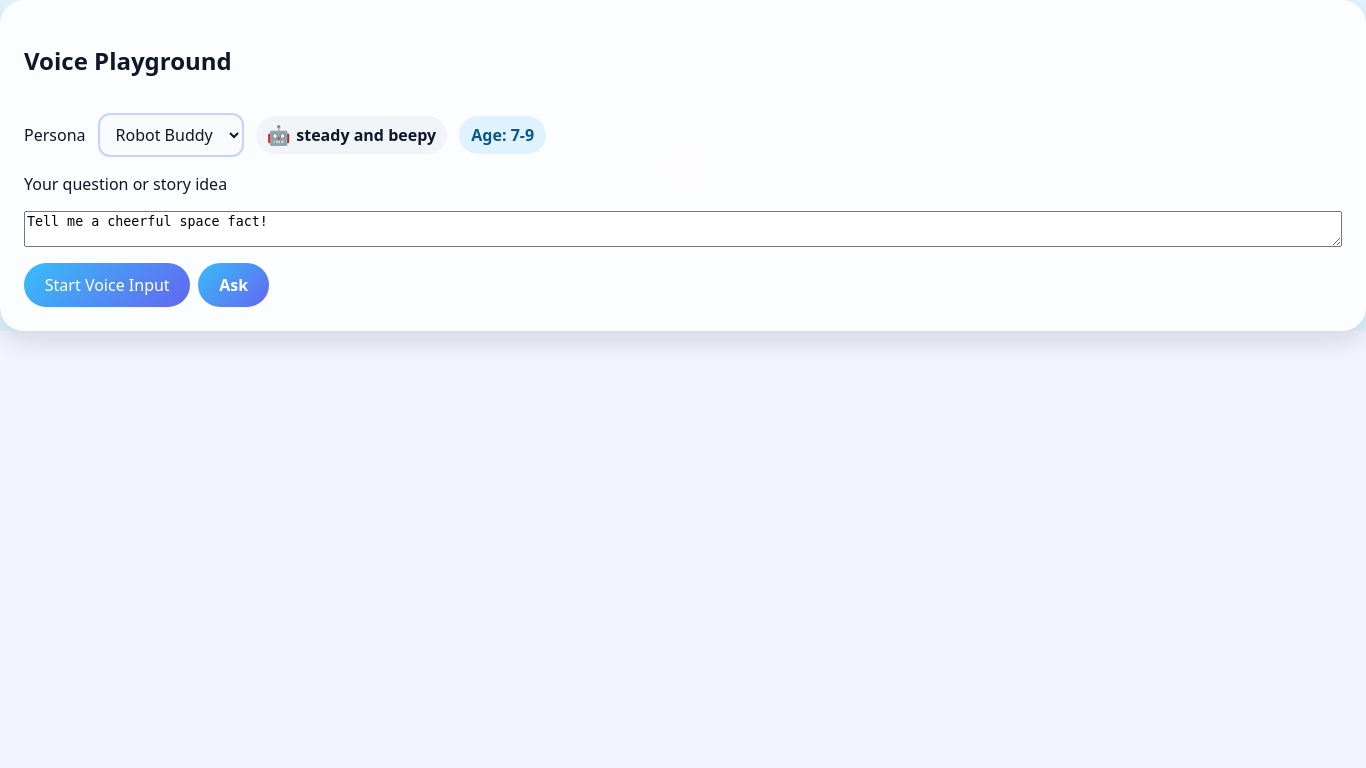
VoiceBar stale-state handling › shows blocked feedback as an alert and hides the replay control
Step 1. Click the button "Ask" → coordinates (234, 285), box [198,263,269,307]
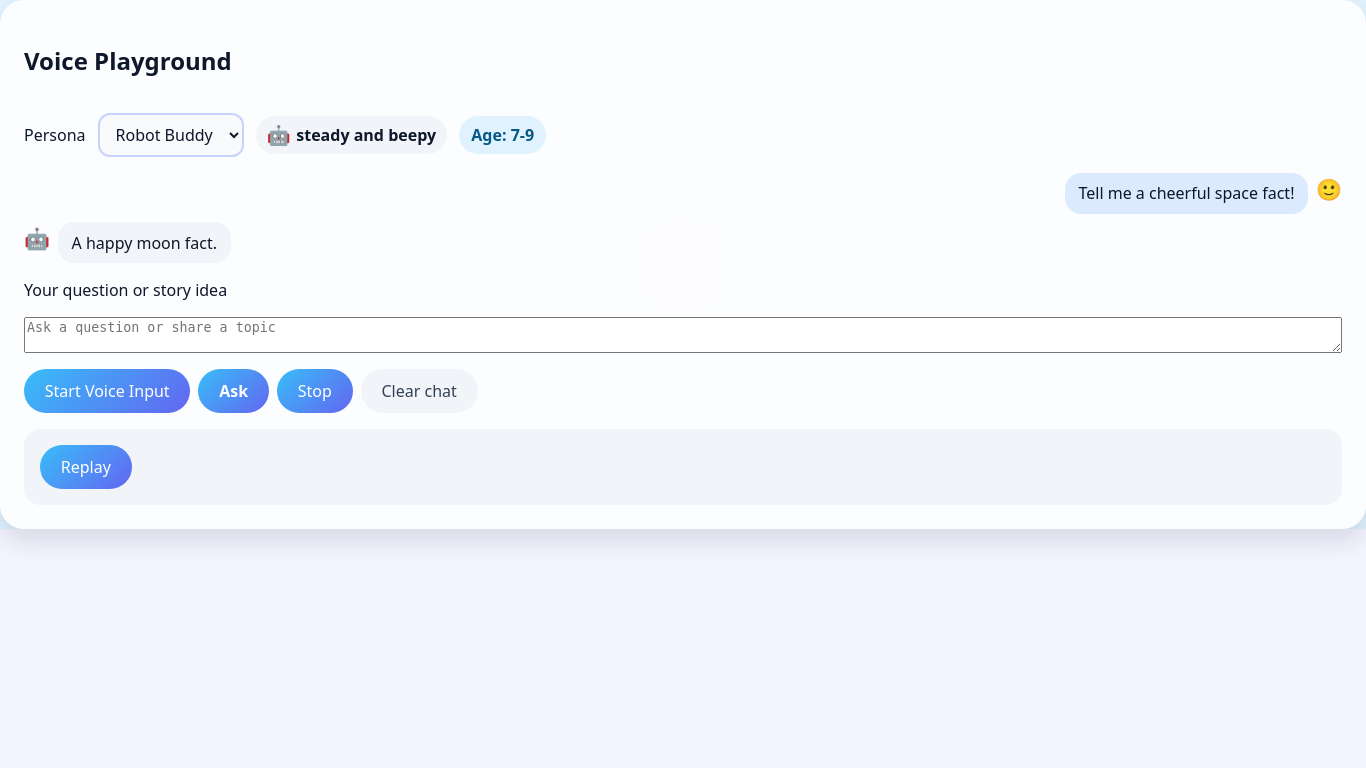
Check: the text "A happy moon fact." is shown, box [58,222,231,263]
Step 2. Type "Something else" into the text box labelled "Your question or story idea" → coordinates (683, 335), box [24,317,1342,353]
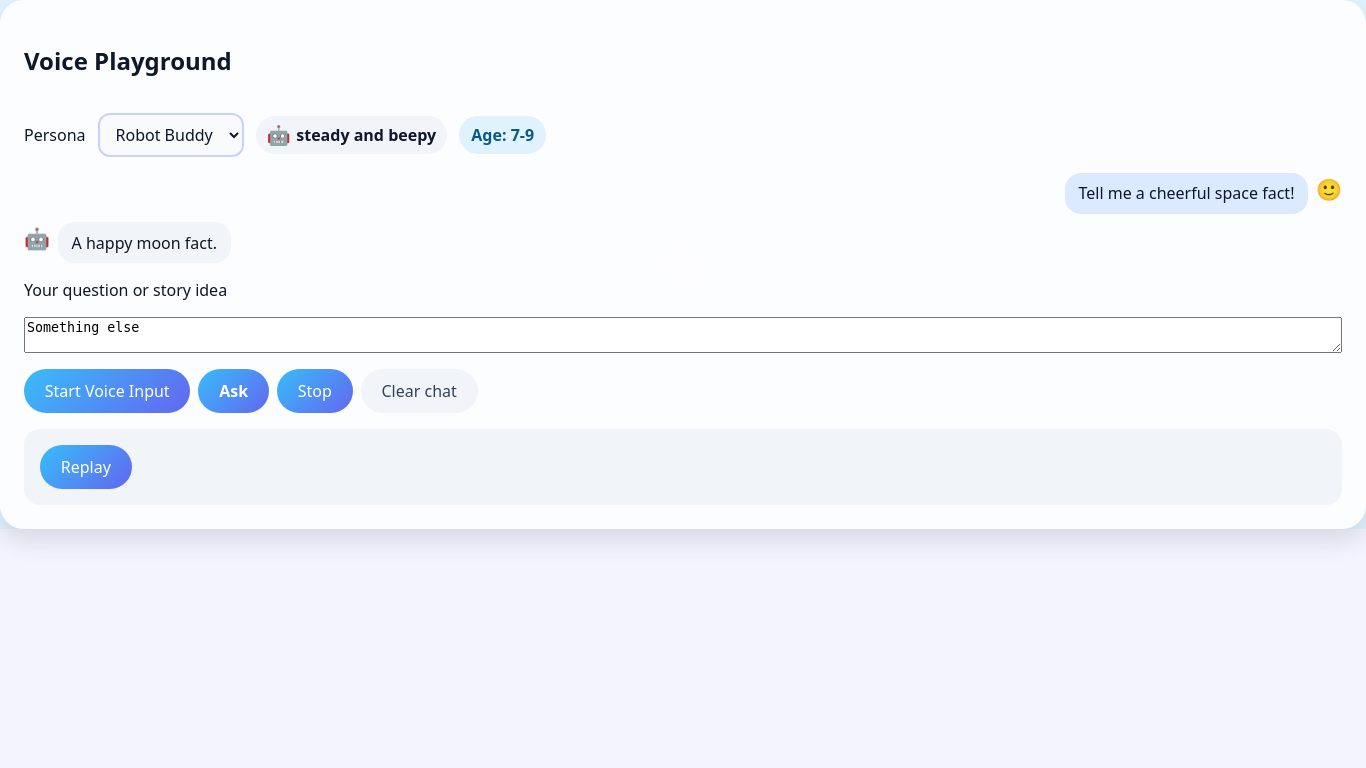
Step 3. Click the button "Ask" → coordinates (234, 391), box [198,369,269,413]
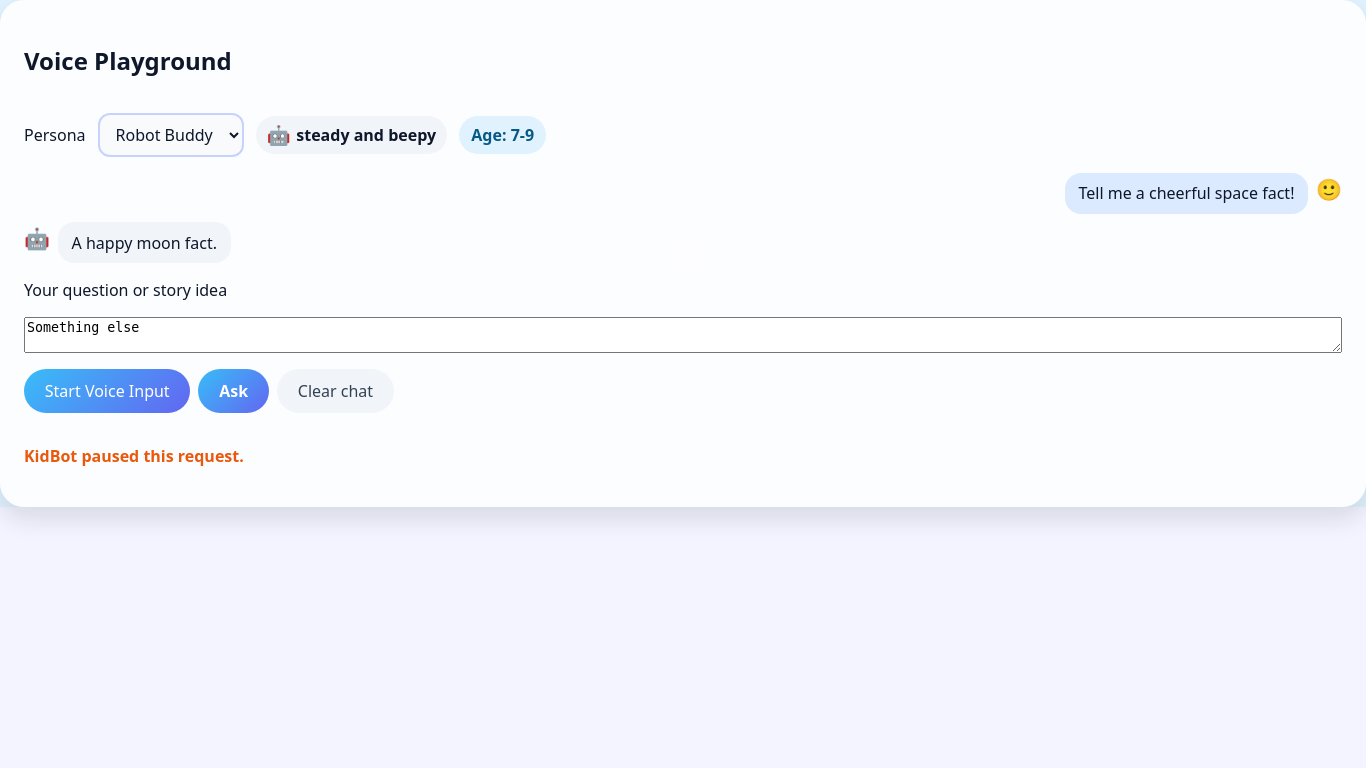
Check: the text "A happy moon fact." is shown, box [58,222,231,263]
Check: the button "Replay" is gone
